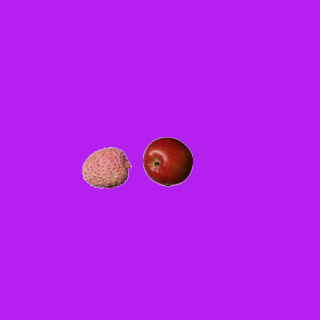Apple Braeburn: (142, 136, 192, 186)
Lychee: (81, 142, 131, 192)
